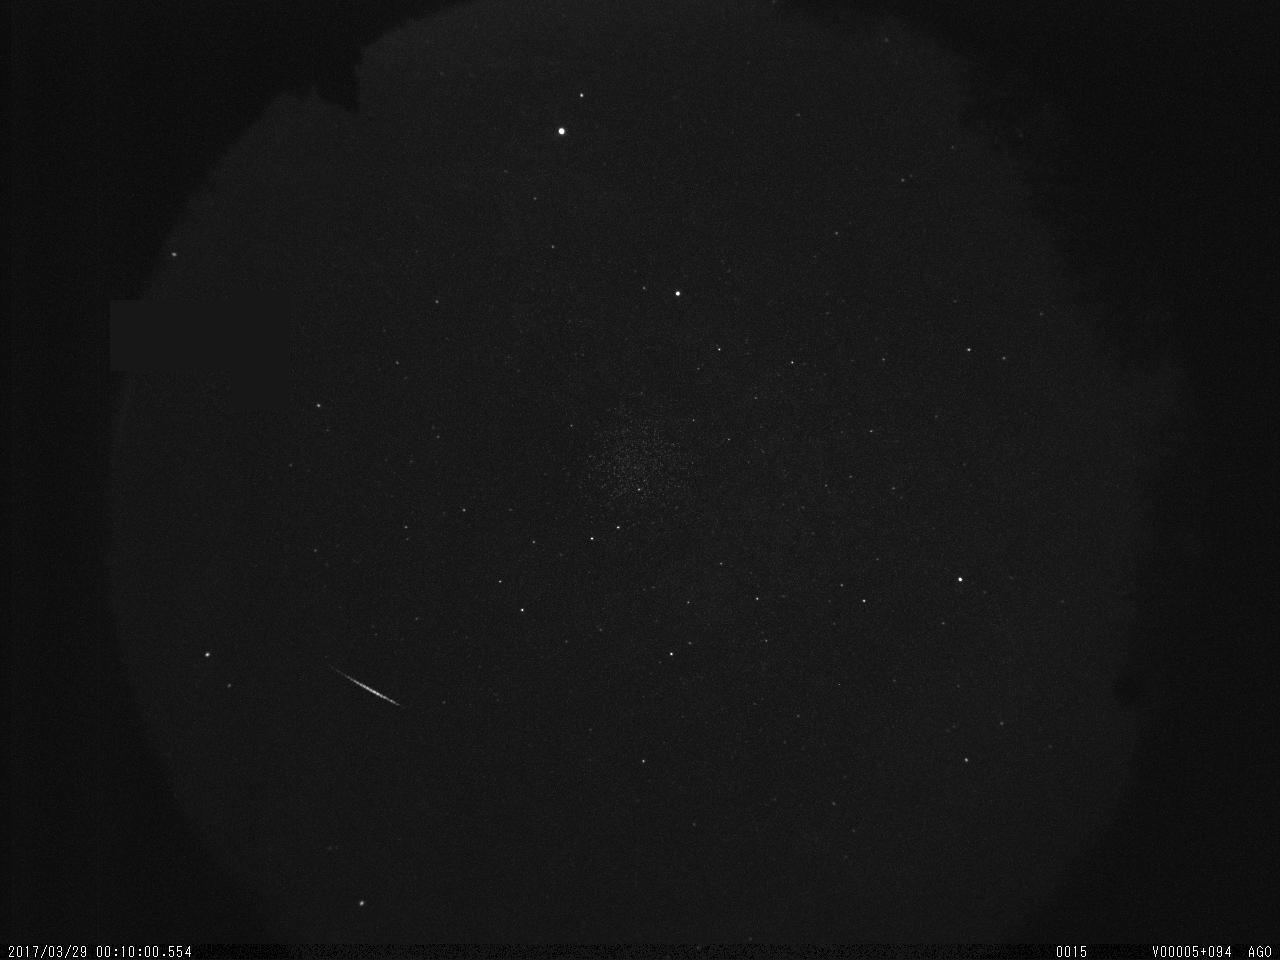Meteor: (327, 663, 402, 707)
